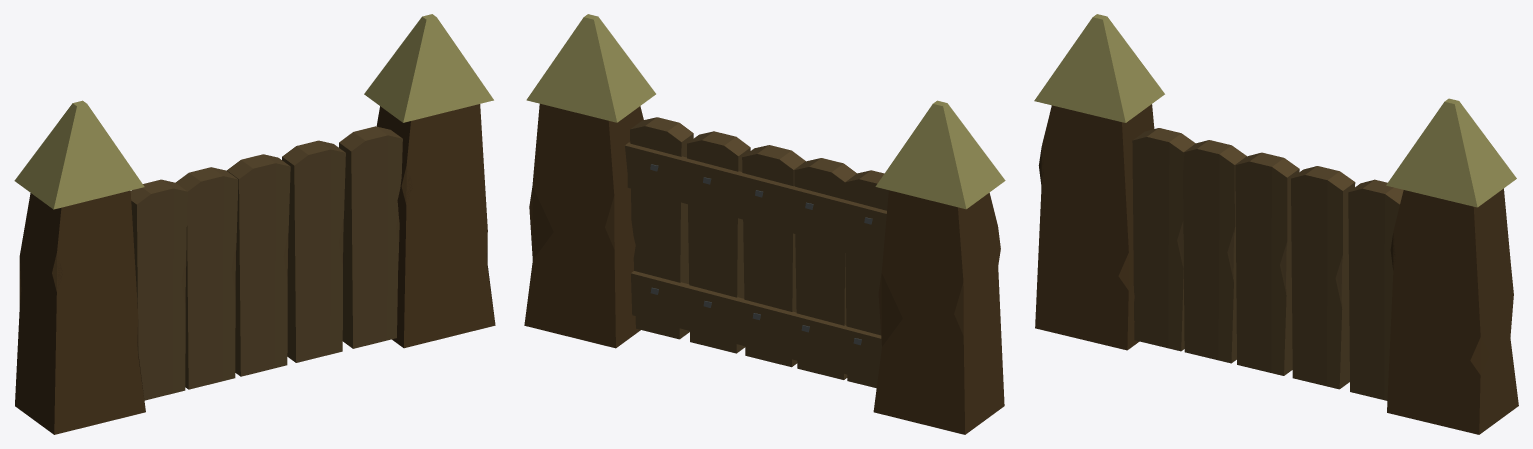
File: Fence.fbx
3 renders of one model, left to right at view 1: azimuth 30°, elevation 25°; view 2: azimuth 150°, elevation 25°; view 3: azimuth 330°, elevation 25°, orthographic.
Parts seen in each view (by area): view 1: Fence; view 2: Fence; view 3: Fence.
Part boxes in pixels (box(x1,y1,x2,y2)): Fence: box(14, 14, 495, 434); Fence: box(524, 14, 1005, 434); Fence: box(1034, 14, 1518, 434).
Size of the model in its own units: 254 by 169 by 39.42.
